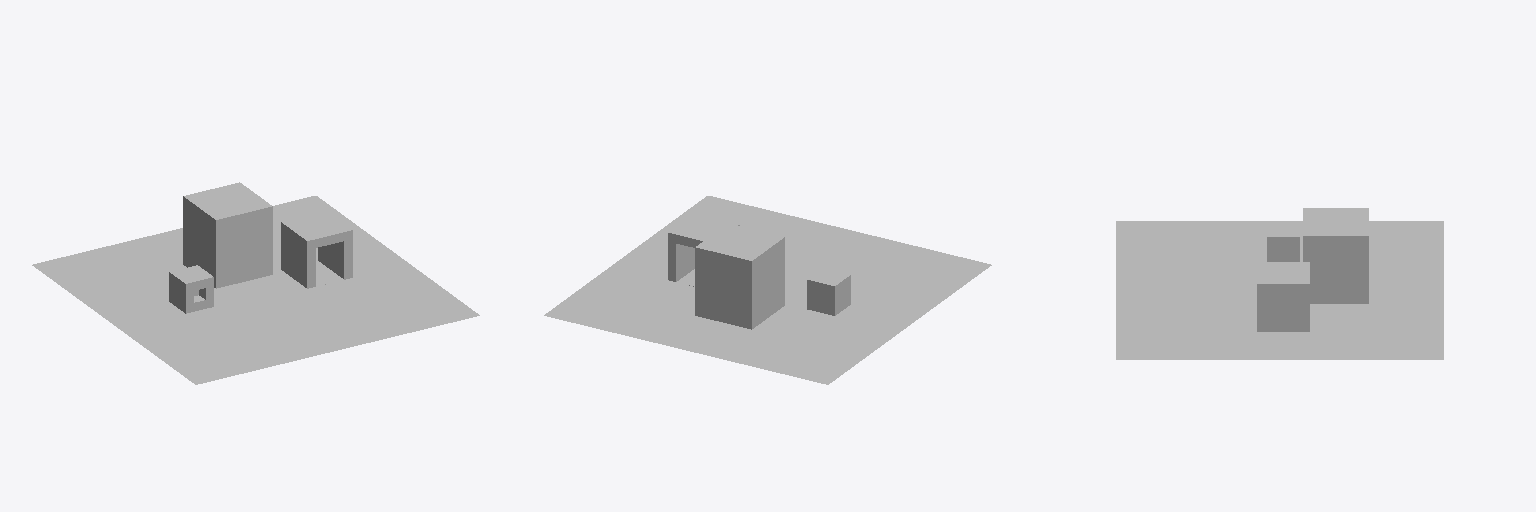
Rendered from map2.obj.
3 views of the same model, side by side, from view 1: azimuth 30°, elevation 25°; view 2: azimuth 150°, elevation 25°; view 3: azimuth 270°, elevation 25° (orthographic).
Parts seen in each view (by area): view 1: Plane; view 2: Plane; view 3: Plane.
Boxes of the visible parts, <box> form: Plane: <box>32,182,479,384</box>; Plane: <box>544,196,991,384</box>; Plane: <box>1116,208,1443,359</box>.
Size of the model in its own units: 100 by 23.02 by 100.